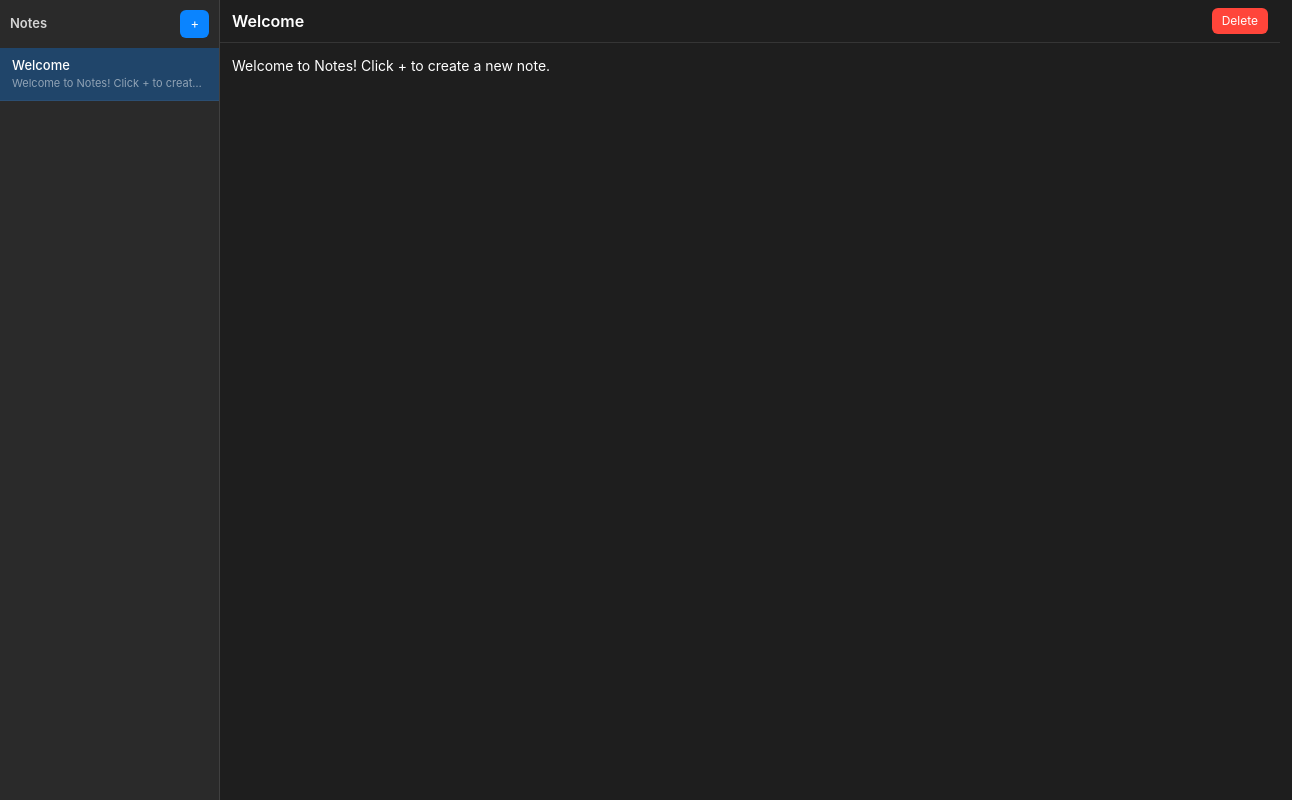
Notes › deletes the selected note
Expected: the field with test id "notes-title-input" holds "Welcome", [232,9,1204,33]
Note: Delete it
Click the button with test id "notes-delete".
click(1240, 21)  # box [1212,8,1268,34]
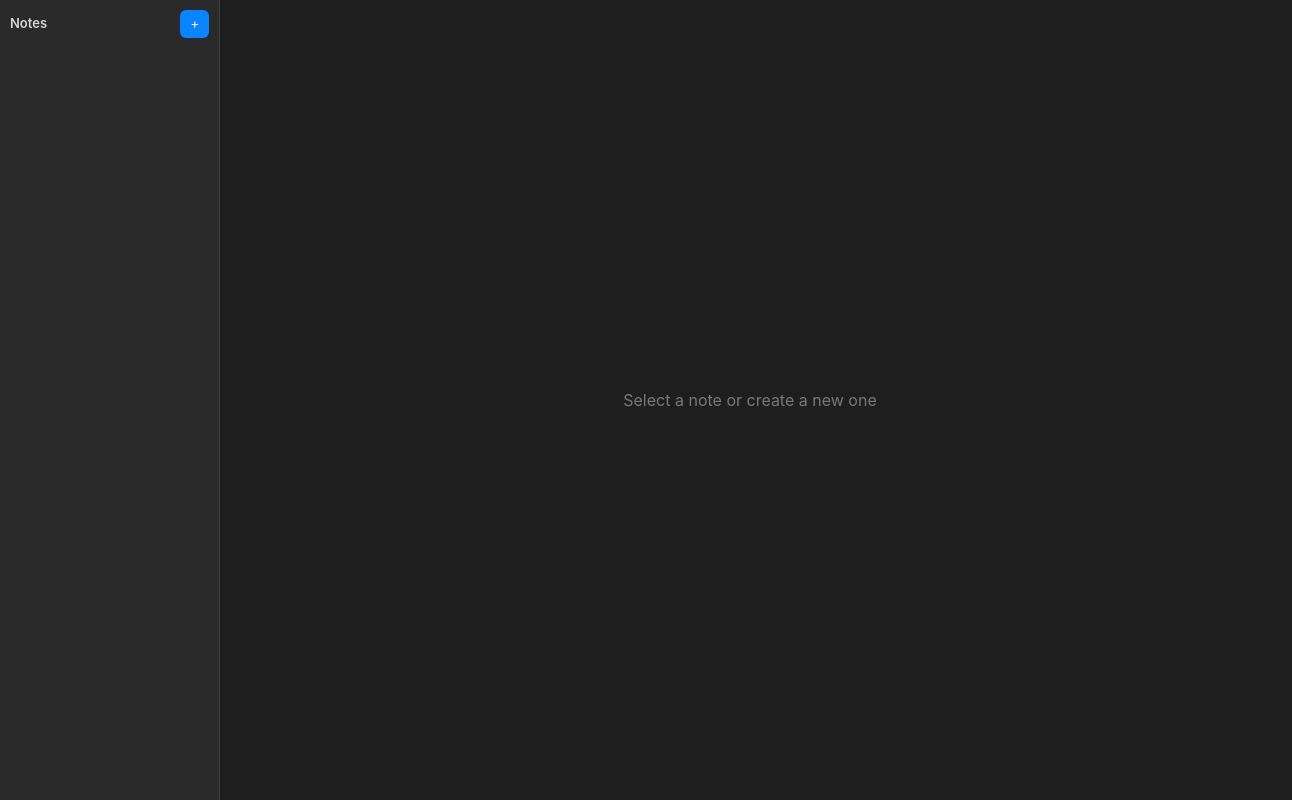
Result: the field with test id "notes-title-input" is gone
